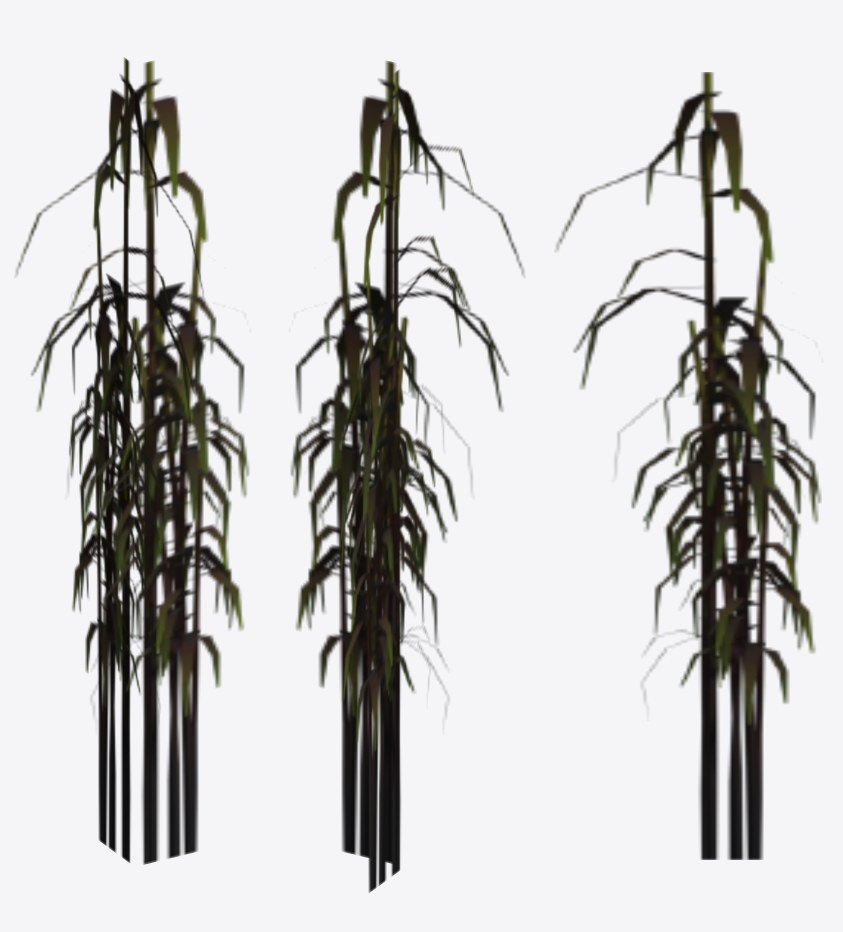
The model's file is bamboo_b_card.glb.
The picture shows the model from 3 angles, left to right: view 1: azimuth 30°, elevation 25°; view 2: azimuth 150°, elevation 25°; view 3: azimuth 270°, elevation 25°; orthographic projection.
Parts seen in each view (by area): view 1: bamboo_b_card; view 2: bamboo_b_card; view 3: bamboo_b_card.
Boxes of the visible parts, left/top/right/bottom form: bamboo_b_card: left=16, top=57, right=248, bottom=864; bamboo_b_card: left=291, top=61, right=523, bottom=892; bamboo_b_card: left=555, top=72, right=820, bottom=859.
Bounding box in the file's own units: 1.87 × 5.95 × 1.87.
Materials: 1 (1 with a texture image).
